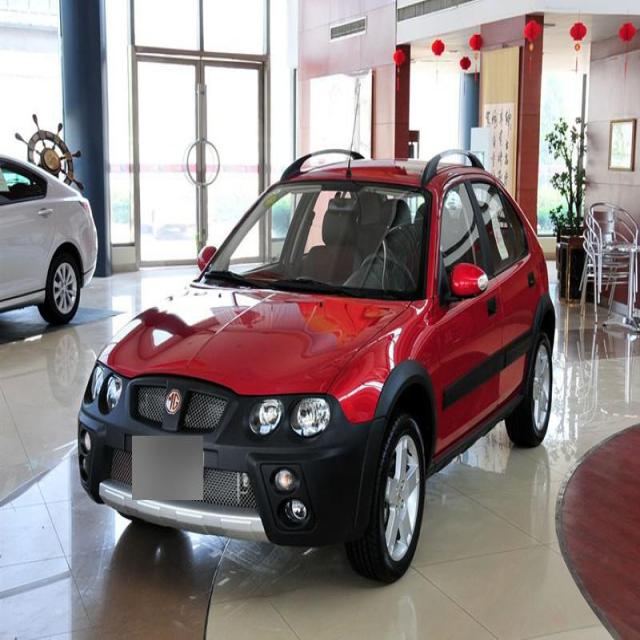front_bumper: (74, 357, 386, 545)
front_glass: (200, 182, 430, 300)
front_left_side_door: (430, 173, 501, 456)
front_left_side_light: (238, 395, 330, 446)
front_left_side_mirror: (443, 260, 489, 304)
front_right_side_light: (84, 356, 122, 416)
front_right_side_mirror: (198, 244, 218, 274)
wheel: (355, 413, 424, 579), (515, 333, 552, 442)
